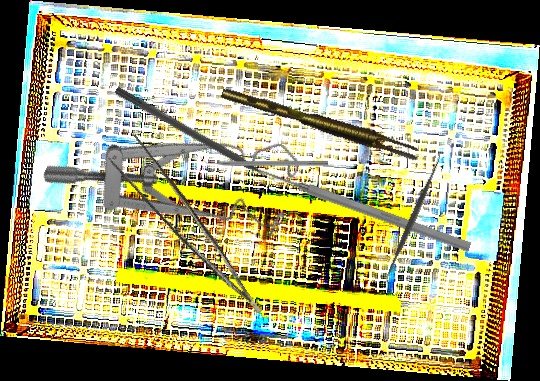Chopper: (200, 154, 328, 166)
Pusher: (244, 158, 473, 255), (113, 85, 285, 192)
Spatula Surgical: (377, 151, 449, 287)
Speculum: (40, 56, 313, 283)
Tissue Forceps: (104, 128, 263, 335), (220, 77, 421, 168)
